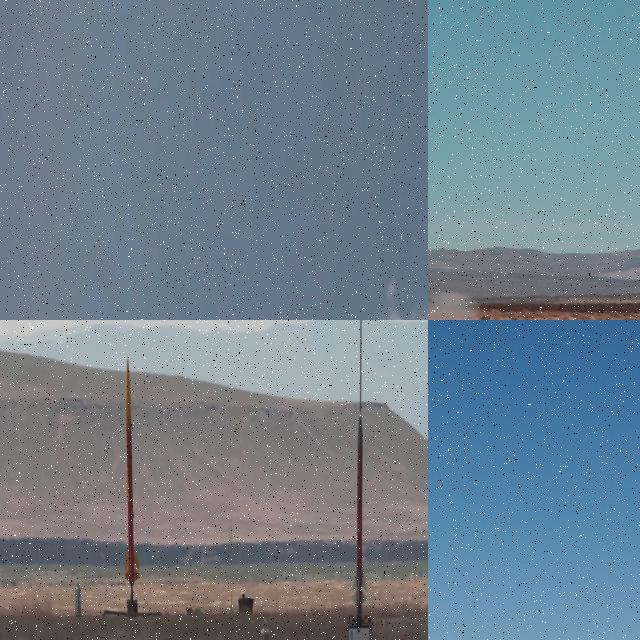Rocket: (120, 359, 139, 589), (350, 413, 368, 616)
